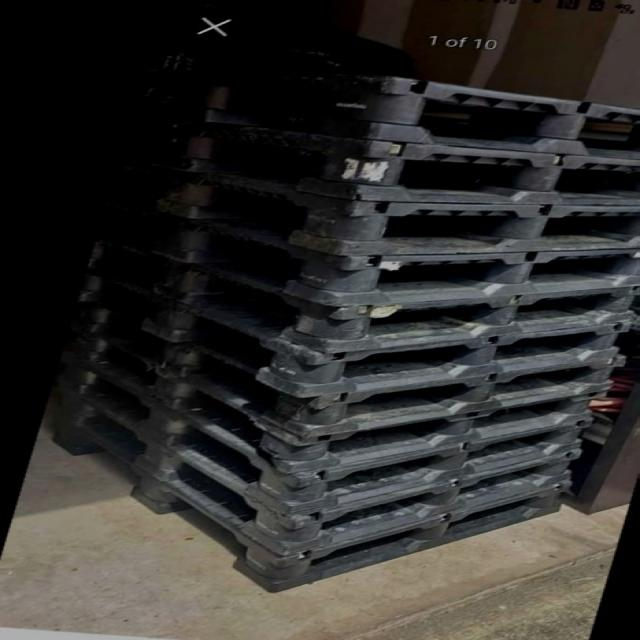non-igps: (266, 480, 582, 599), (280, 452, 598, 562), (290, 418, 607, 526), (294, 313, 638, 407), (298, 388, 626, 482), (306, 358, 638, 449), (324, 276, 639, 364), (366, 70, 640, 166), (348, 130, 640, 214), (332, 238, 638, 316), (343, 193, 640, 264)
